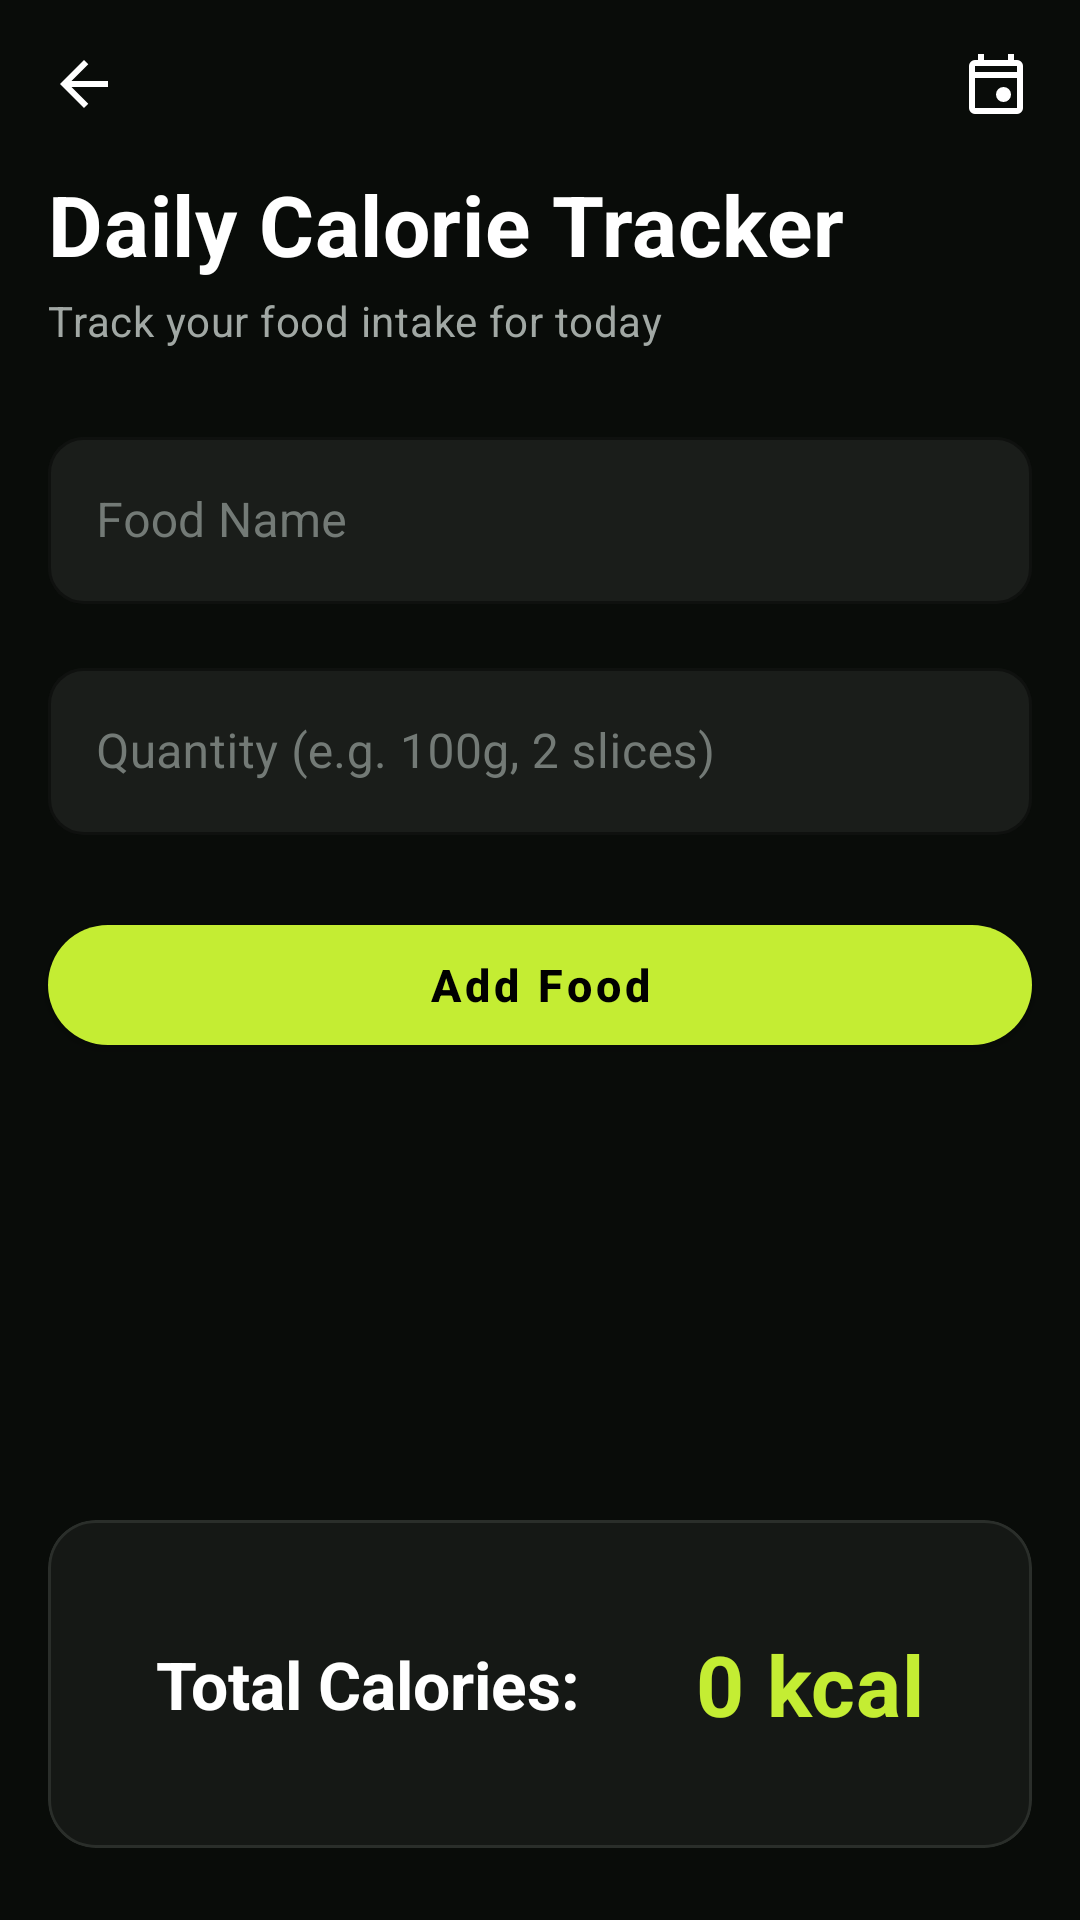

Locate icon controls on the screen. Image size 1080 x 1920, boxes as [left=x1, top=y1, right=x2, bottom=y2].
Back: [left=60, top=60, right=108, bottom=108]
History: [left=969, top=54, right=1023, bottom=114]
